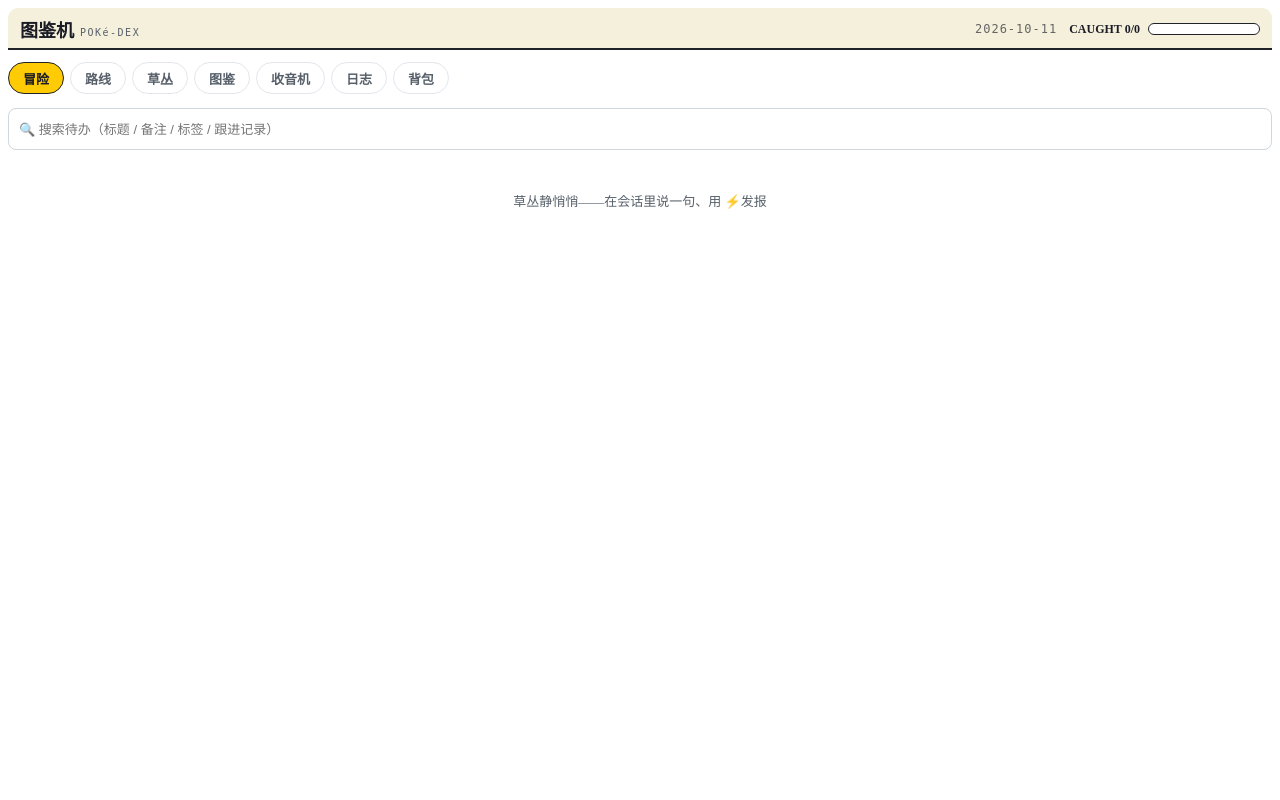
Test: 空态文案（§8） › 日志空态：还没有派出过 agent（sessionsPage 拉式首载后呈现）
Click the button "日志" at (359, 78), box left=331, top=62, right=387, bottom=94
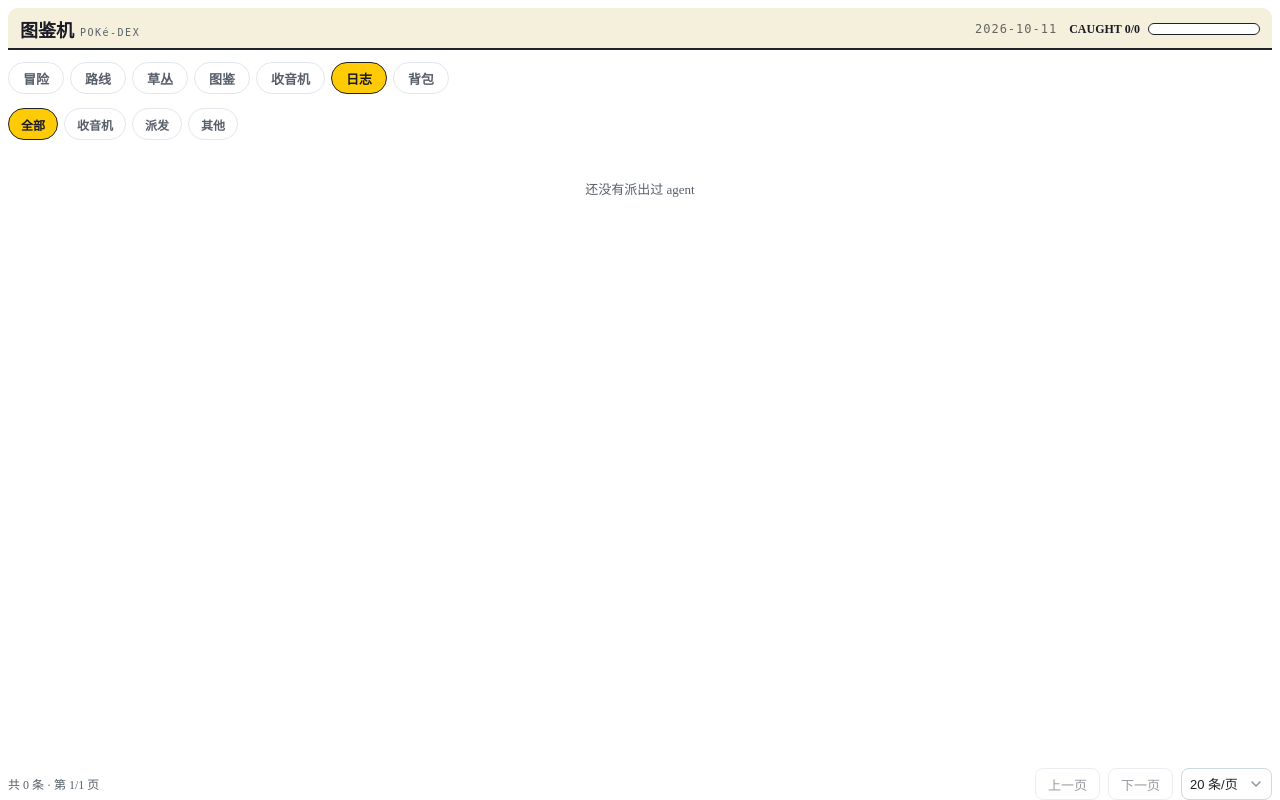
Check: the text "还没有派出过 agent" is shown, box left=585, top=182, right=695, bottom=197
